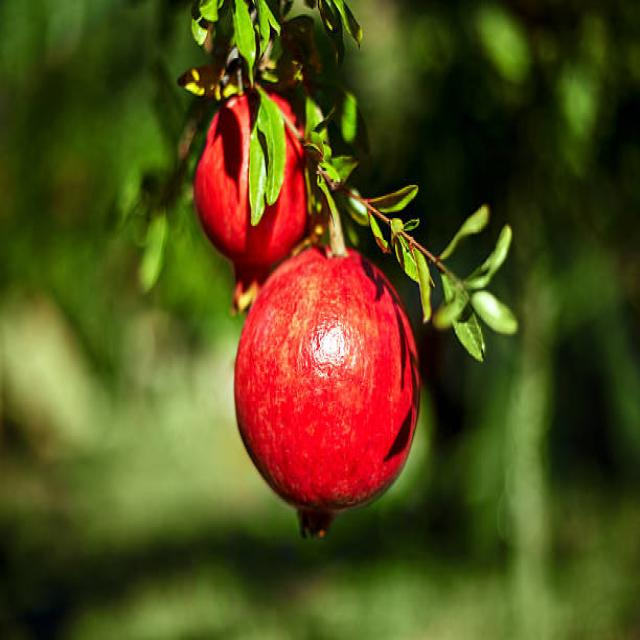Ripe: (234, 248, 424, 546), (189, 87, 314, 255)
